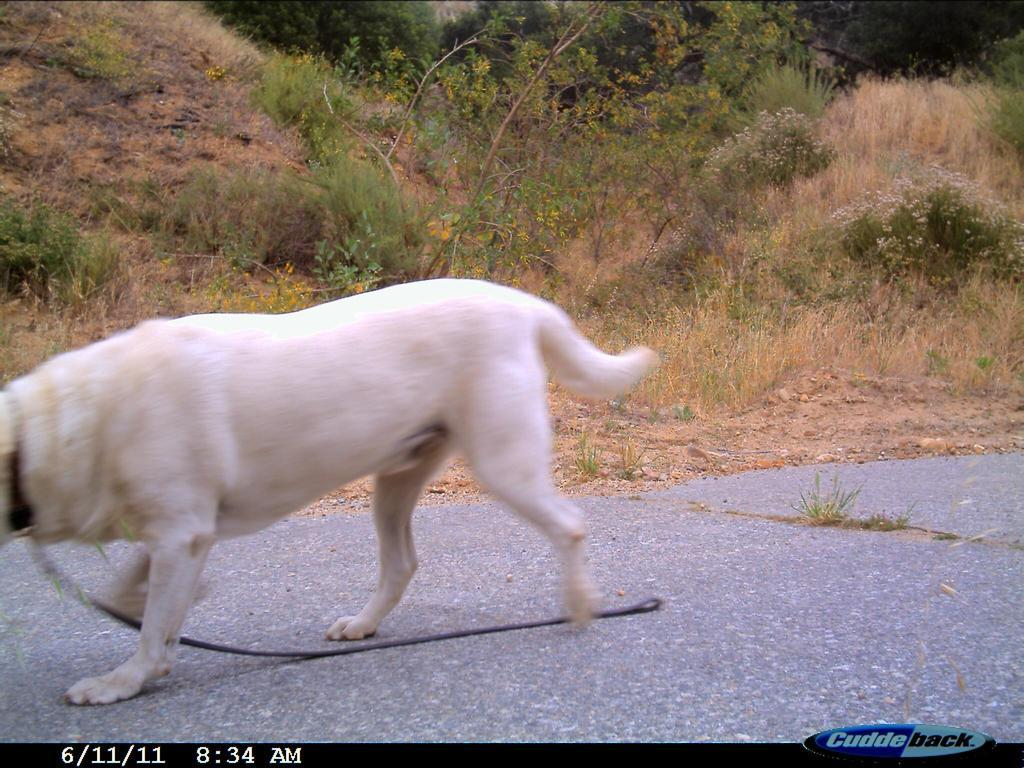dog: (6, 253, 666, 706)
